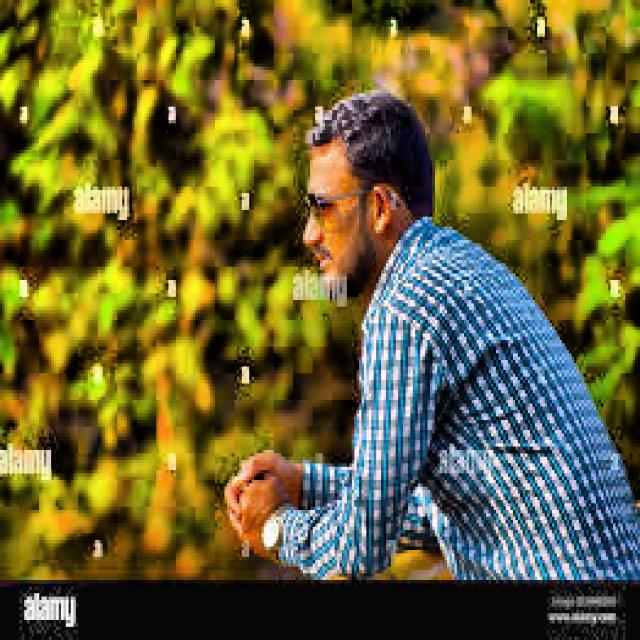Human: (242, 97, 638, 587)
